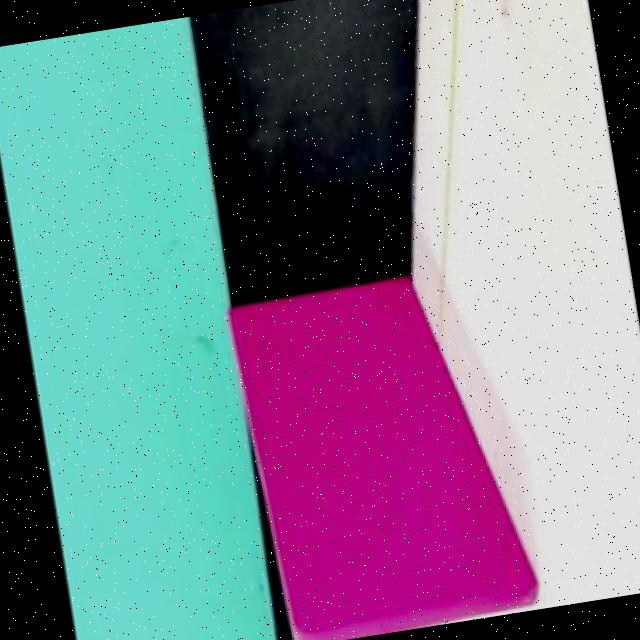xparking: (251, 274, 528, 638)
